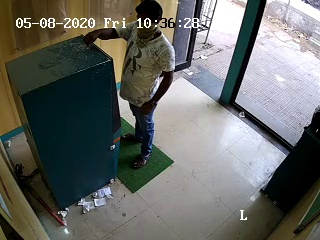open: (175, 2, 262, 110)
